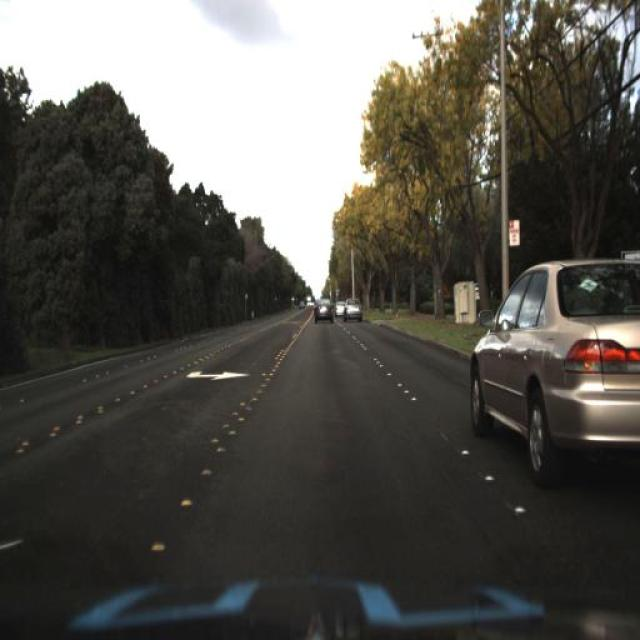car: (460, 244, 638, 492), (466, 254, 636, 490), (306, 292, 340, 329), (341, 287, 367, 328), (332, 295, 346, 320)
